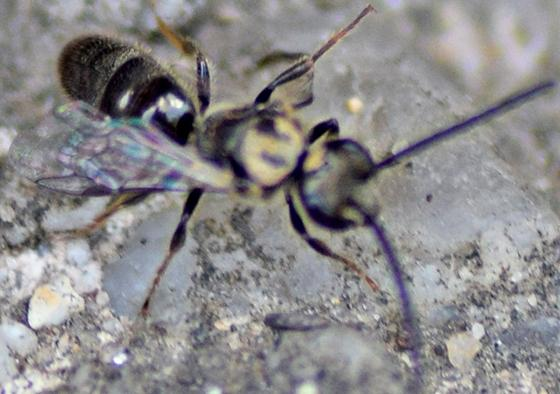Lasioglossum: (33, 0, 557, 394)
